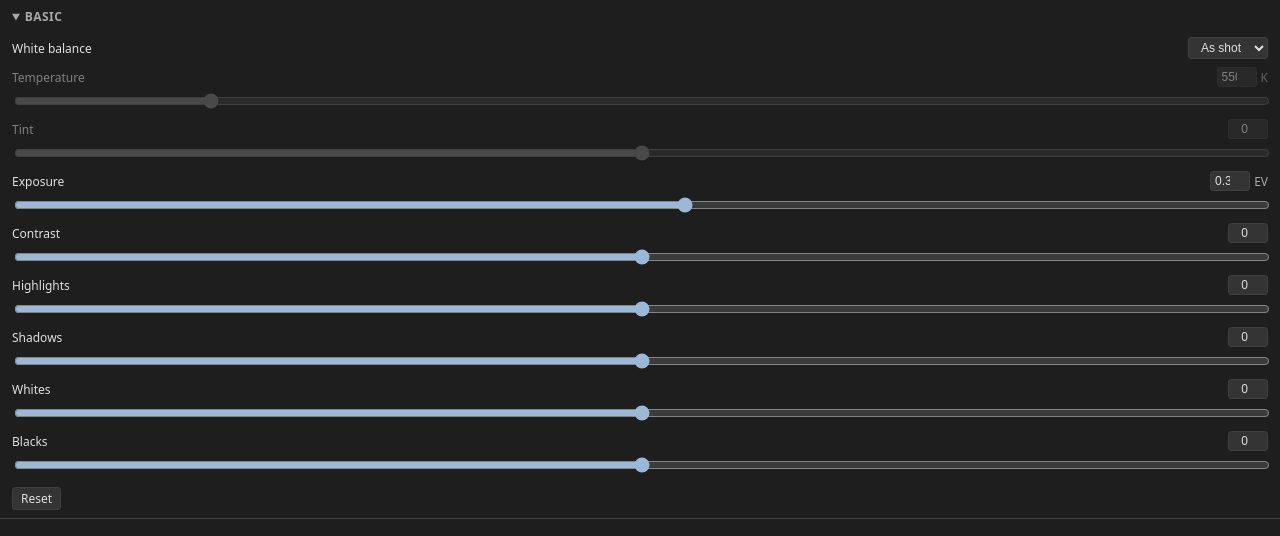
Test case: BasicPanel › edits a slider from the range and from the number input
Step 1. Set the slider labelled "Contrast" to "25" → (797, 257), box [14,249,1270,265]
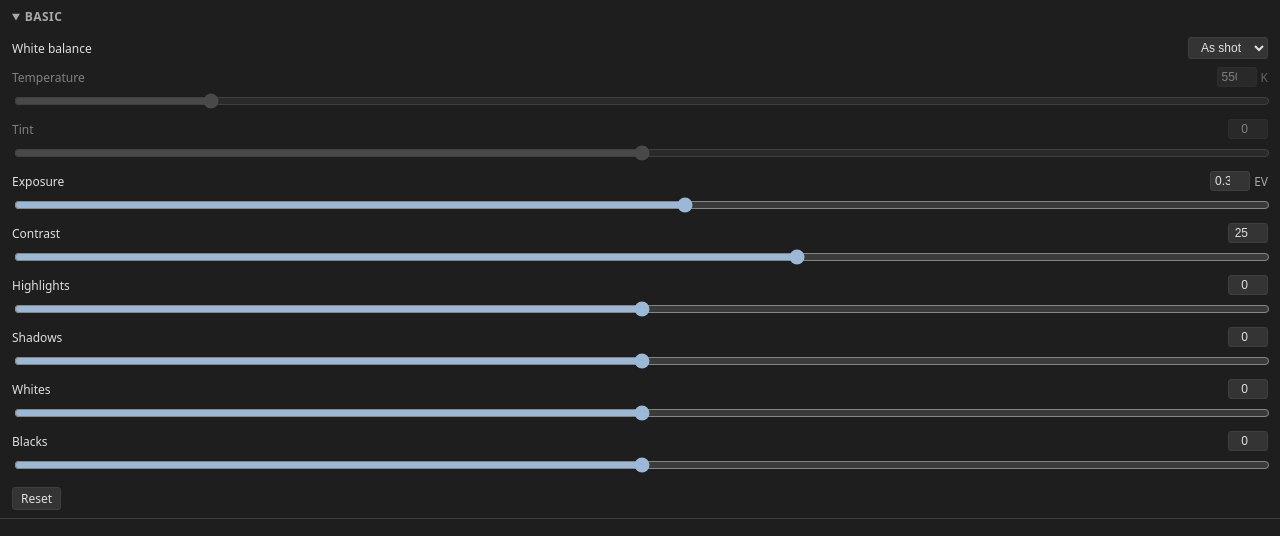
Step 2. Replace the text in the number field named "Exposure value" with "9" → (1230, 181), box [1210,171,1250,191]
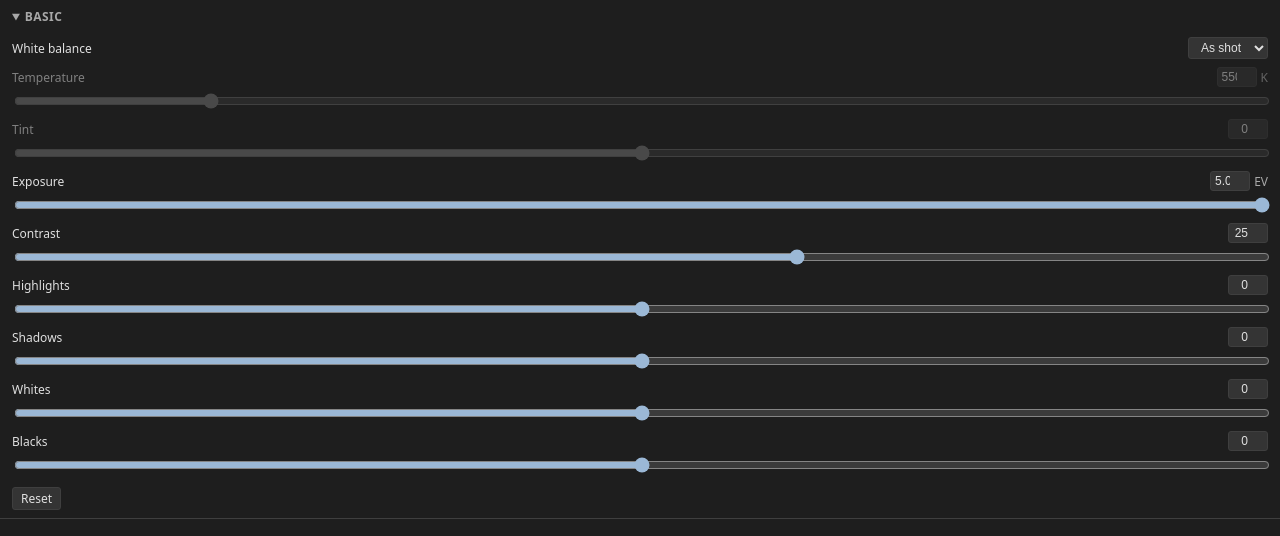
Now the number field named "Exposure value" holds "5.00", box [1210,171,1250,191]
